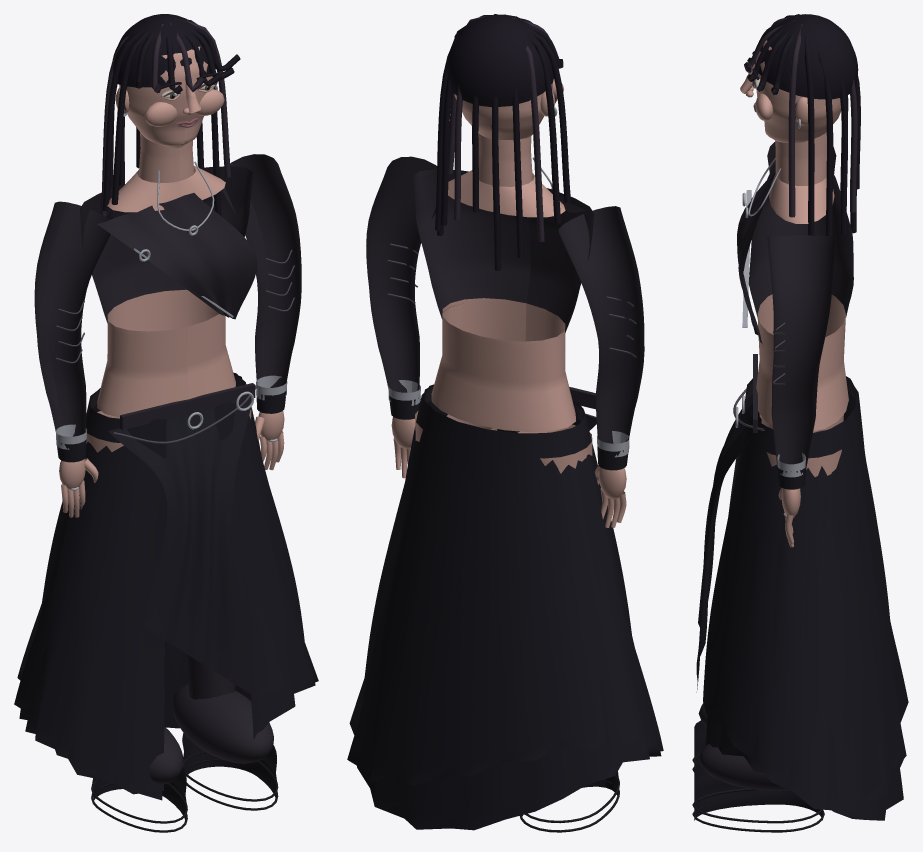
The model's file is look-0-crowd.glb.
The picture shows the model from 3 angles, left to right: view 1: azimuth 30°, elevation 25°; view 2: azimuth 150°, elevation 25°; view 3: azimuth 270°, elevation 25°; orthographic projection. The views are drawn at different scales.
Visible parts, largest first — view 1: look-0-crowd, arm-0, arm-1, leg-1, leg-0; view 2: look-0-crowd, arm-0, arm-1, leg-0; view 3: look-0-crowd, arm-1, leg-1, leg-0.
Part boxes in pixels (x1,y1,x2,y2): look-0-crowd: (14, 14, 318, 800); arm-0: (34, 201, 110, 517); arm-1: (222, 154, 301, 470); leg-1: (172, 407, 278, 810); leg-0: (86, 411, 187, 832); look-0-crowd: (347, 14, 663, 830); arm-0: (558, 206, 644, 527); arm-1: (366, 156, 436, 478); leg-0: (517, 424, 619, 832); look-0-crowd: (696, 14, 908, 820); arm-1: (767, 235, 836, 547); leg-1: (692, 430, 841, 832); leg-0: (692, 414, 843, 772).
Bounding box in the file's own units: 0.793 × 2.04 × 0.5136.
